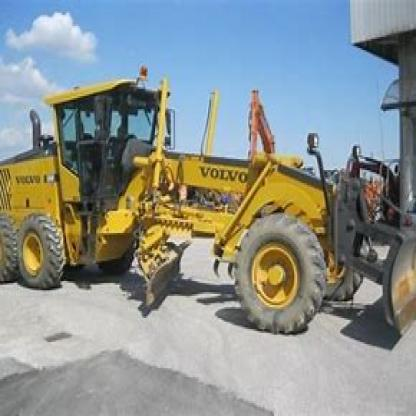bull_dozer/loader/grader: (0, 70, 383, 348)
